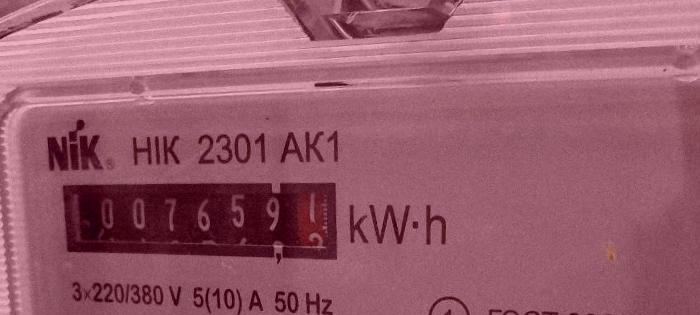0: (128, 193, 149, 233), (97, 194, 118, 233)
1: (301, 189, 321, 226)
5: (226, 191, 249, 231)
6: (192, 194, 215, 235)
7: (159, 194, 182, 233)
9: (262, 194, 284, 234)
screen: (51, 170, 345, 270)
